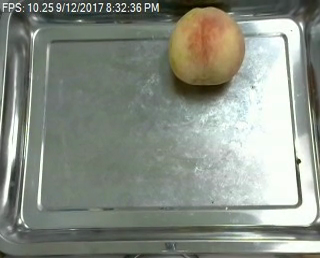Peach: (168, 6, 245, 87)
